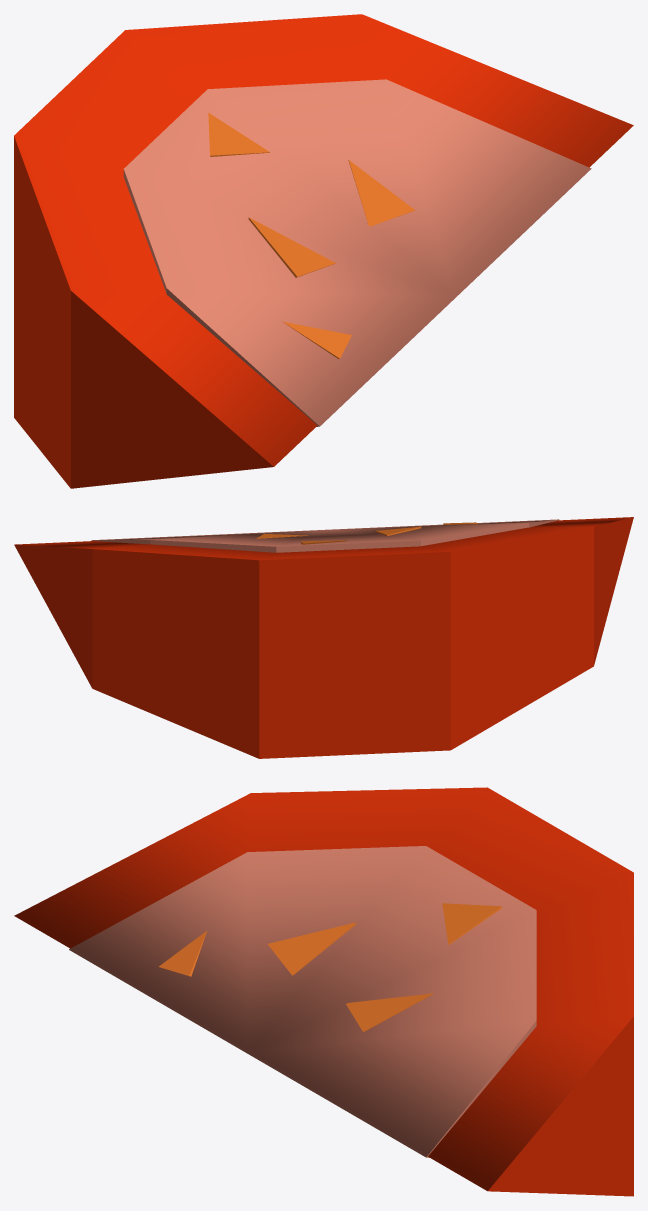
File: TomatoNew.fbx
3 views of the same model, one above another, from view 1: azimuth 30°, elevation 25°; view 2: azimuth 150°, elevation 25°; view 3: azimuth 270°, elevation 25° (orthographic). The views are drawn at different scales.
Parts seen in each view (by area): view 1: pCylinder10; view 2: pCylinder10; view 3: pCylinder10.
Boxes of the visible parts, left/top/right/bottom form: pCylinder10: left=14, top=14, right=633, bottom=488; pCylinder10: left=14, top=517, right=633, bottom=758; pCylinder10: left=14, top=787, right=633, bottom=1196.
Bounding box in the file's own units: 1.14 × 0.4448 × 0.9732.
